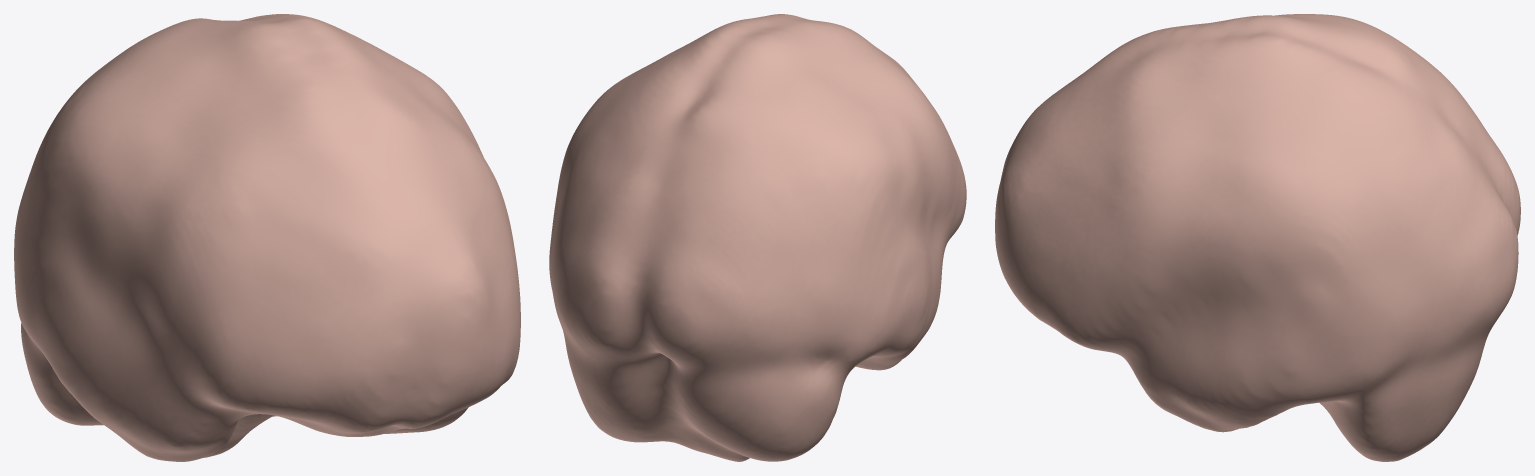
Rendered from s1045_brain.glb.
3 views of the same model, side by side, from view 1: azimuth 30°, elevation 25°; view 2: azimuth 150°, elevation 25°; view 3: azimuth 270°, elevation 25° (orthographic). The views are drawn at different scales.
Parts seen in each view (by area): view 1: brain; view 2: brain; view 3: brain.
Part boxes in pixels (bbox=[...]): brain: bbox=[14, 14, 520, 461]; brain: bbox=[549, 14, 966, 461]; brain: bbox=[995, 14, 1520, 461].
Size of the model in its own units: 0.1265 by 0.1345 by 0.1591.
